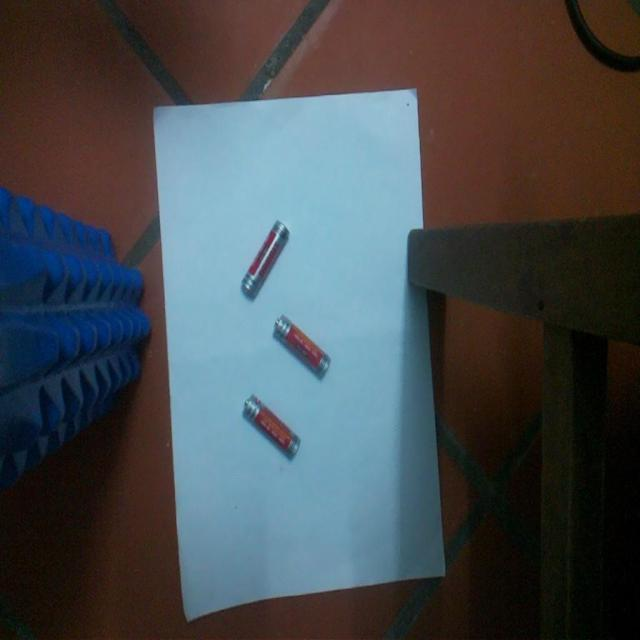AA: (241, 220, 291, 302), (272, 315, 332, 383), (242, 393, 300, 461)
